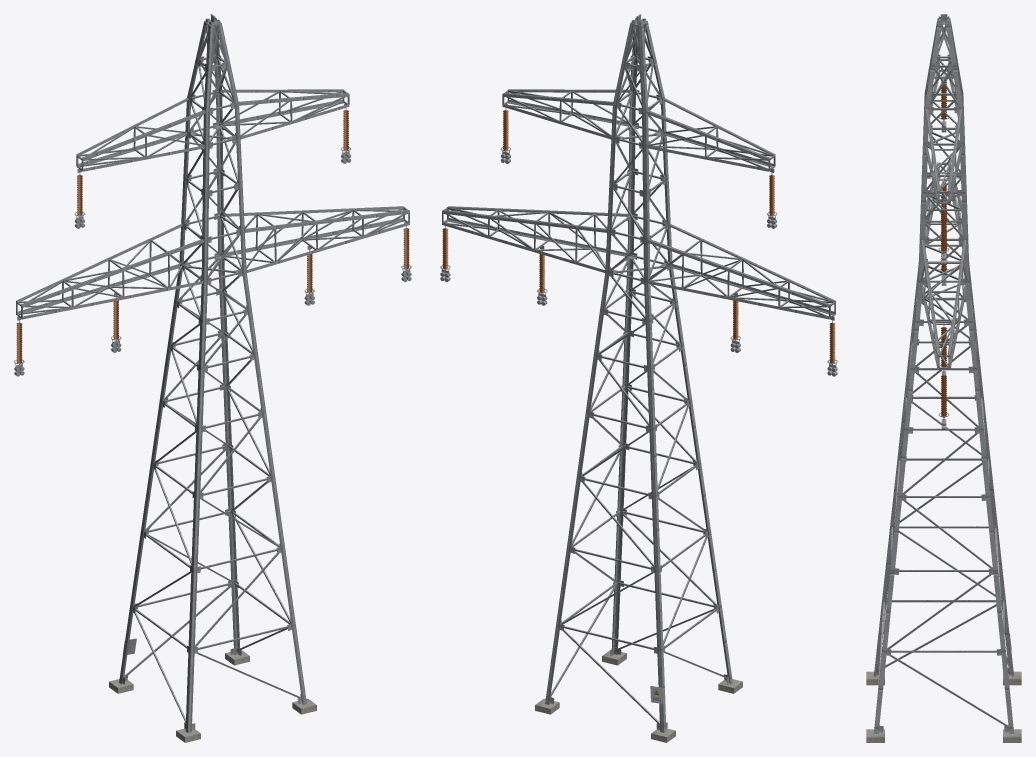
Rendered from lattice_suspension.obj.
The picture shows the model from 3 angles, left to right: view 1: azimuth 30°, elevation 25°; view 2: azimuth 150°, elevation 25°; view 3: azimuth 270°, elevation 25°; orthographic projection.
Parts seen in each view (by area): view 1: body, arm, footing; view 2: body, arm, footing; view 3: body, arm, footing.
Part boxes in pixels (x1,y1,x2,y2): body: [119, 17, 306, 732]; arm: [16, 89, 409, 319]; footing: [109, 650, 316, 742]; body: [545, 17, 732, 732]; arm: [442, 89, 835, 319]; footing: [535, 649, 742, 742]; body: [874, 16, 1013, 733]; arm: [920, 58, 967, 369]; footing: [866, 671, 1021, 742].
Bounding box in the file's own units: 6.97 × 11.5 × 2.32.
